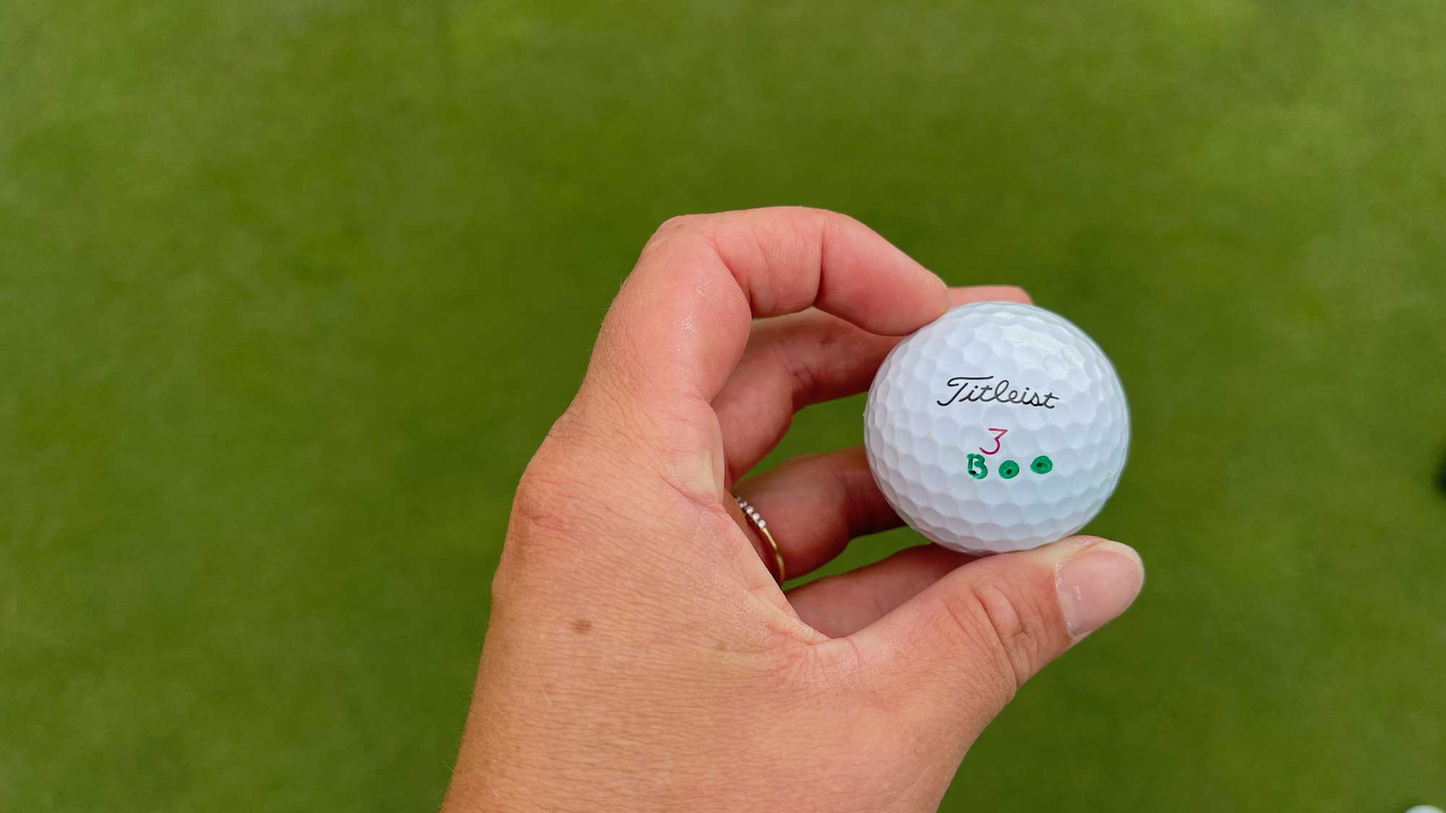sphere: (864, 301, 1129, 553)
